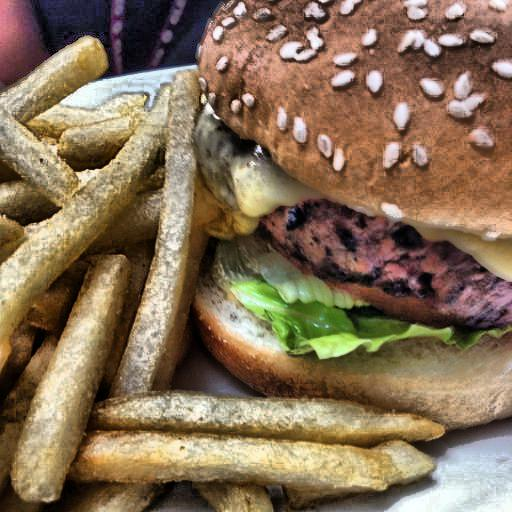burger: (179, 6, 512, 436)
